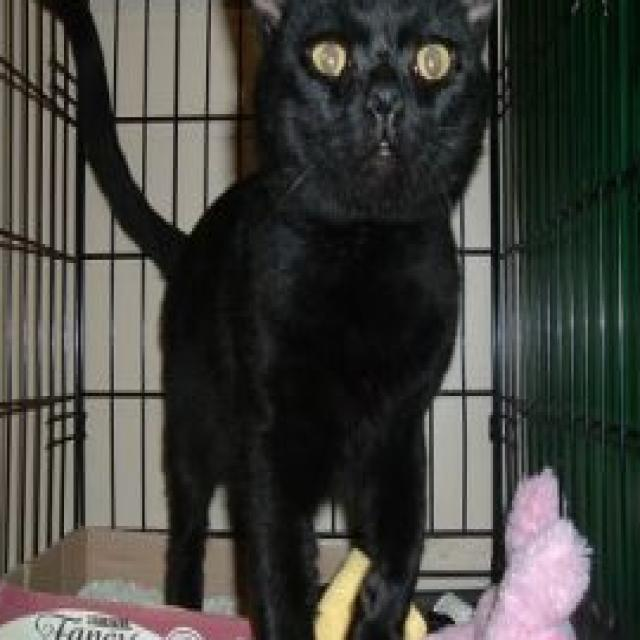Bombay: (36, 0, 512, 640)
